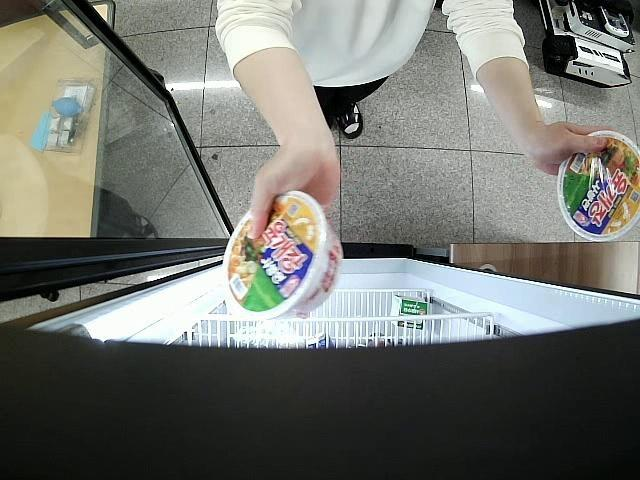09_yukGaeJang: (222, 191, 342, 320), (555, 130, 640, 243)
